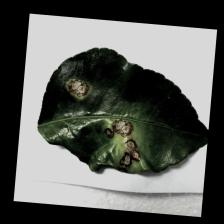canker: (45, 68, 156, 171)
